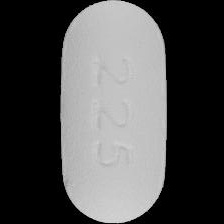68151-2893: (0, 0, 224, 224)
